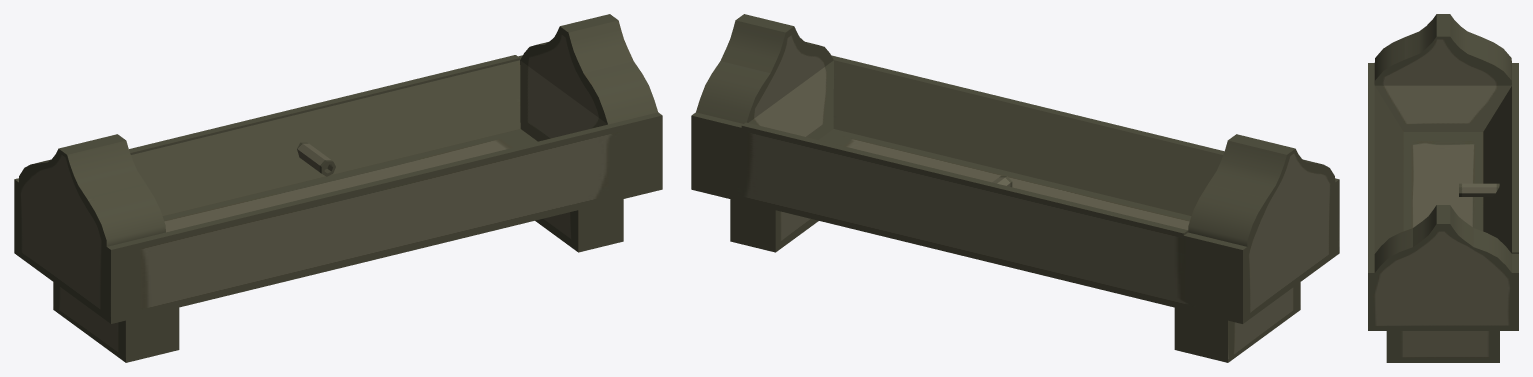
Rendered from DrinkingWaterYas.fbx.
3 views of the same model, side by side, from view 1: azimuth 30°, elevation 25°; view 2: azimuth 150°, elevation 25°; view 3: azimuth 270°, elevation 25° (orthographic). The views are drawn at different scales.
Parts seen in each view (by area): view 1: pCube1, pCylinder1; view 2: pCube1; view 3: pCube1, pCylinder1.
Part boxes in pixels (box(x1,y1,x2,y2)): pCube1: box(14, 14, 662, 362); pCylinder1: box(297, 142, 335, 176); pCube1: box(691, 14, 1339, 362); pCube1: box(1368, 14, 1518, 362); pCylinder1: box(1459, 183, 1499, 196).
Size of the model in its own units: 7.79 by 2.58 by 2.37.
